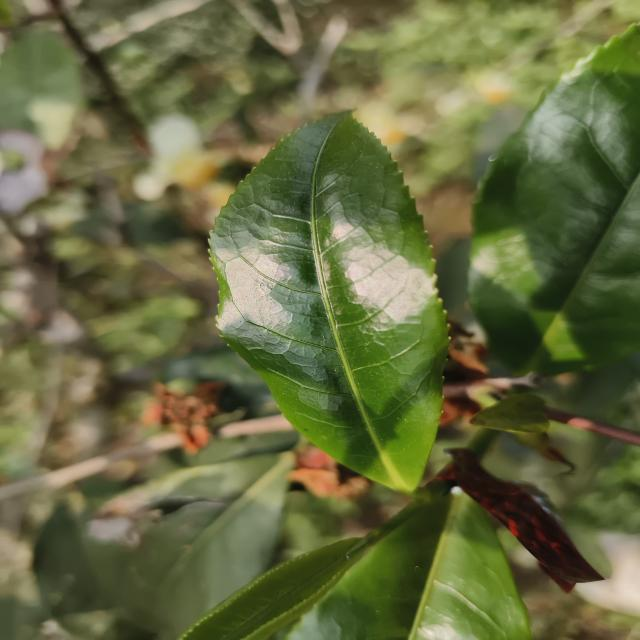Leaf: (210, 112, 448, 493), (469, 25, 640, 374), (73, 451, 294, 640), (286, 489, 531, 640), (179, 503, 418, 640), (0, 30, 82, 213)
